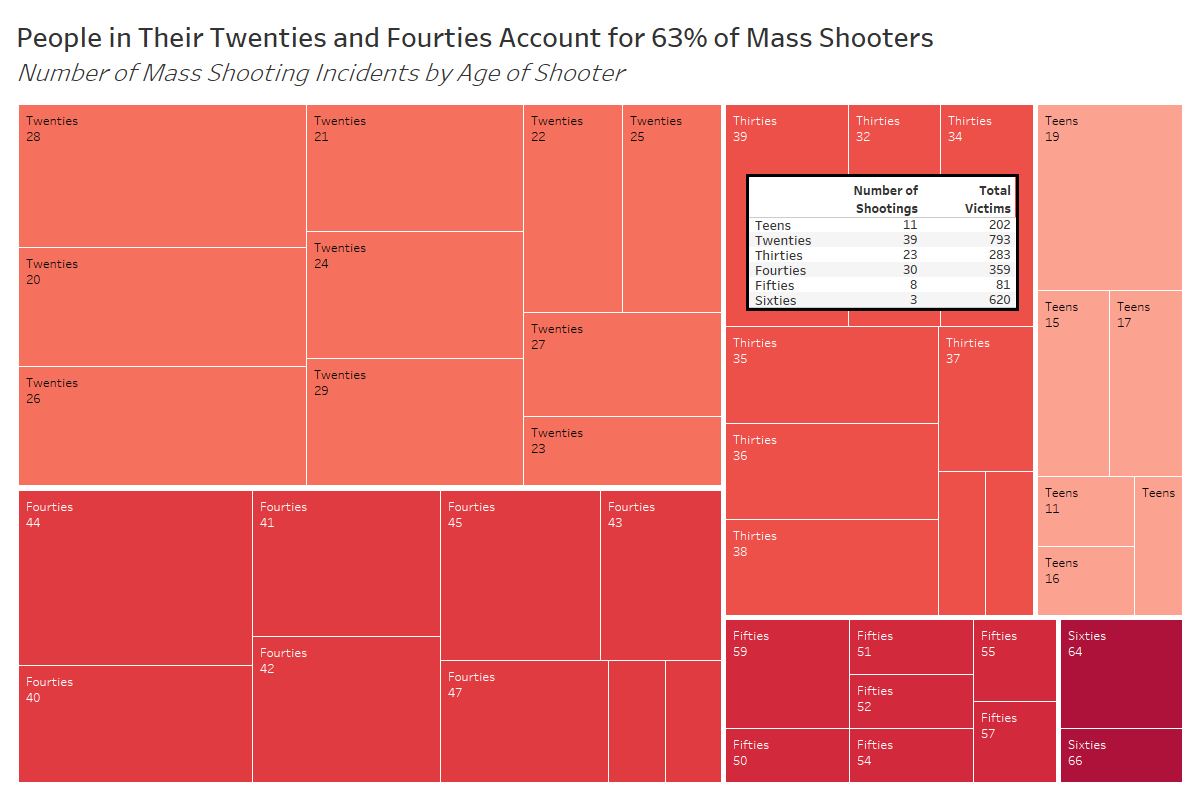

What the dashboard file says about the page in this screenshot:
{"tool":"tableau","page":{"name":"Dashboard 3","canvas":[1200,800],"ordinal":2},"visuals":[{"type":"worksheet","title":"age","mark":"Automatic","box":[8,8,1184,784]},{"type":"worksheet","title":"Sheet 11","mark":"Automatic","rows":["Age Of Shooter (bin)"],"box":[746,174,273,137]}]}

Visuals, with their boxes in screenshot pixels (x1, y1, x2, y2), scaled from the page's 1200x800 canvas onto the 1200x800 screenshot:
"age" worksheet: bbox=[8, 8, 1192, 792]
"Sheet 11" worksheet: bbox=[746, 174, 1019, 311]
